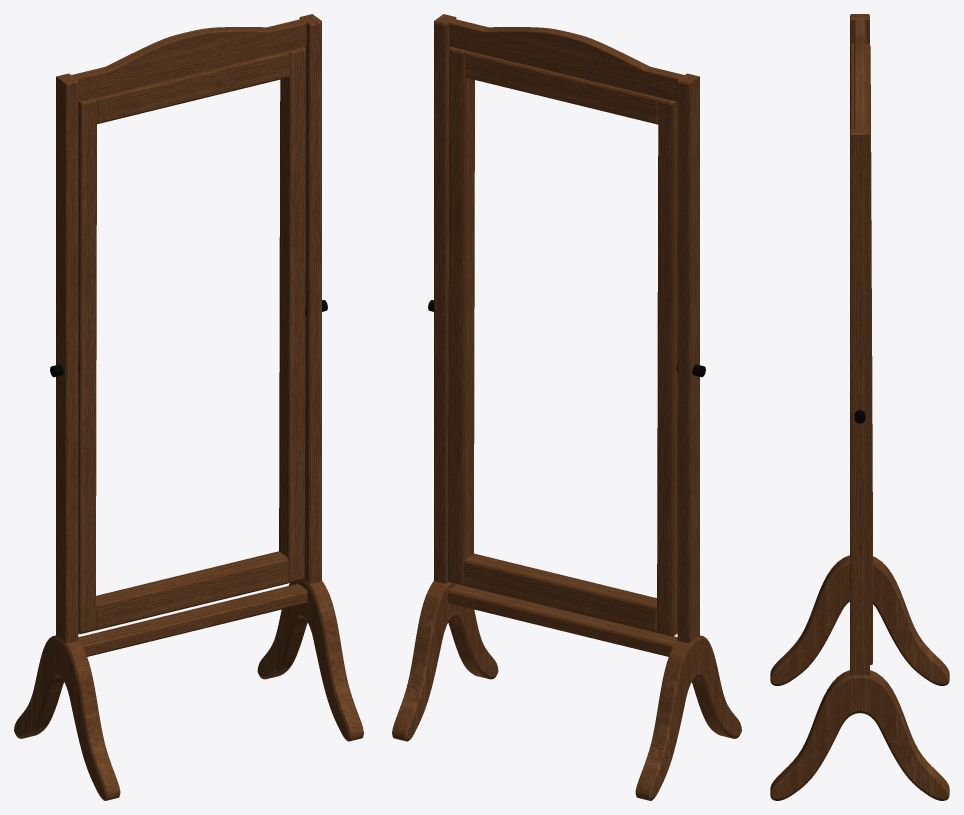
The model's file is MirrorFrame.fbx.
The picture shows the model from 3 angles, left to right: view 1: azimuth 30°, elevation 25°; view 2: azimuth 150°, elevation 25°; view 3: azimuth 270°, elevation 25°; orthographic projection. The views are drawn at different scales.
Parts seen in each view (by area): view 1: StaticFrame, PivotFrame; view 2: StaticFrame, PivotFrame; view 3: StaticFrame, PivotFrame.
Part boxes in pixels (x1,y1,x2,y2): StaticFrame: (14,14,363,800); PivotFrame: (78,47,305,634); StaticFrame: (392,14,741,800); PivotFrame: (448,47,677,636); StaticFrame: (770,14,949,800); PivotFrame: (850,44,872,664).
Size of the model in its own units: 69.49 by 172 by 41.02.
2 materials, 1 textured.
